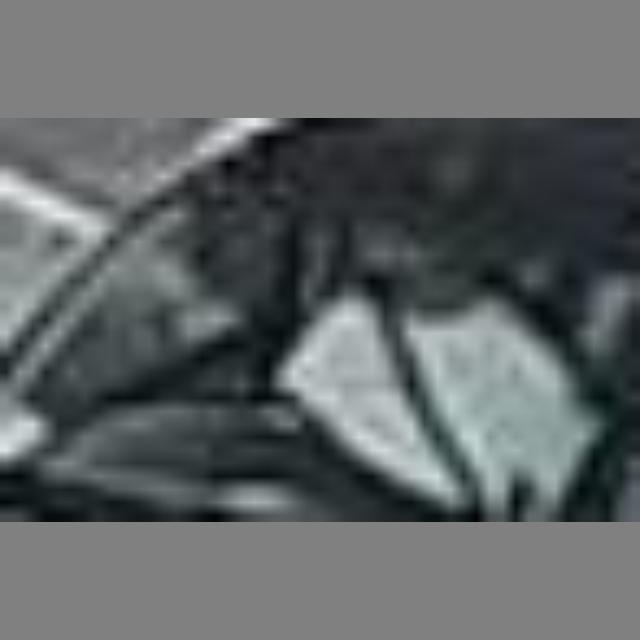pakai: (261, 236, 536, 484)
